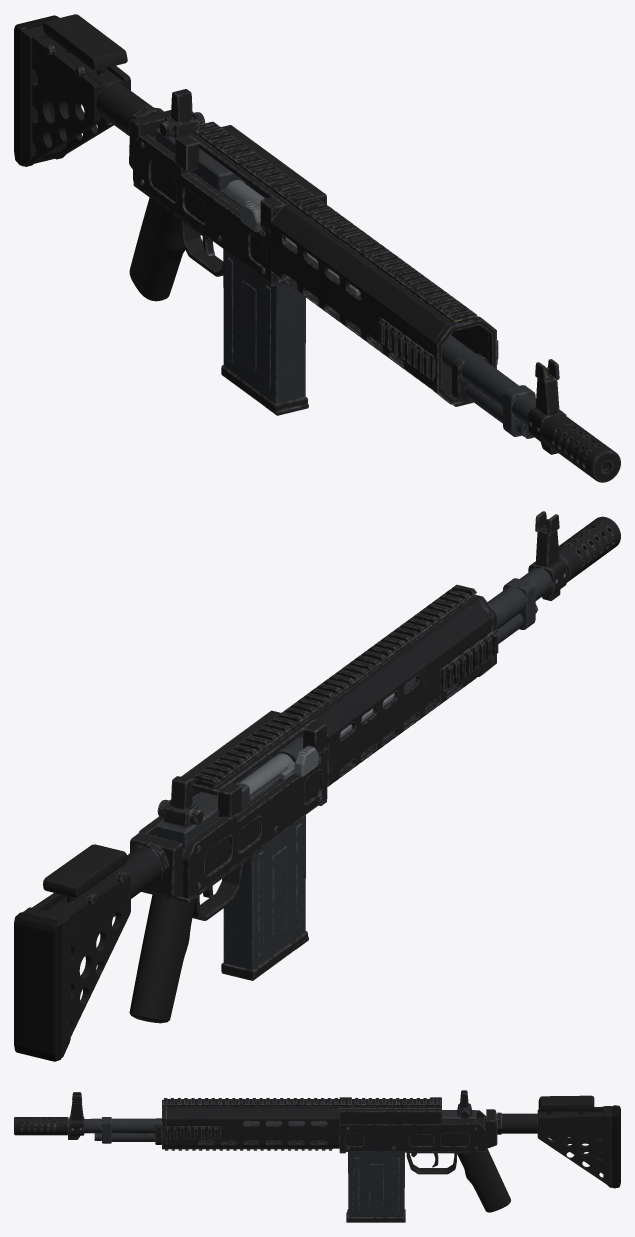
File: M14EBR.fbx
3 renders of one model, top to bottom at view 1: azimuth 30°, elevation 25°; view 2: azimuth 150°, elevation 25°; view 3: azimuth 270°, elevation 25°, orthographic. The views are drawn at different scales.
Parts seen in each view (by area): view 1: Body, Mag, IronSights, Bolt; view 2: Body, Mag, IronSights, Bolt; view 3: Body, Mag, IronSights.
Boxes of the visible parts, bbox=[...] form: Body: bbox=[14, 14, 620, 482]; Mag: bbox=[221, 249, 308, 415]; IronSights: bbox=[159, 89, 559, 415]; Bolt: bbox=[241, 200, 360, 295]; Body: bbox=[14, 516, 620, 1061]; Mag: bbox=[221, 815, 308, 980]; IronSights: bbox=[157, 511, 559, 826]; Bolt: bbox=[281, 693, 394, 779]; Body: bbox=[14, 1095, 620, 1212]; Mag: bbox=[346, 1152, 406, 1222]; IronSights: bbox=[70, 1090, 471, 1120].
Bounding box in the file's own units: 0.064 × 0.2046 × 0.889.
